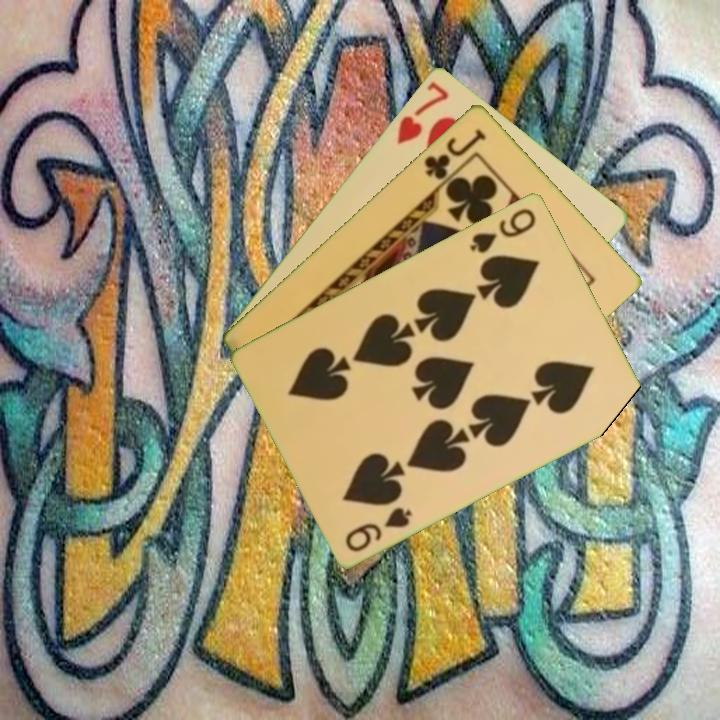7h: (393, 77, 452, 147)
9s: (342, 502, 415, 555), (466, 204, 539, 256)
Jc: (420, 124, 489, 183)
